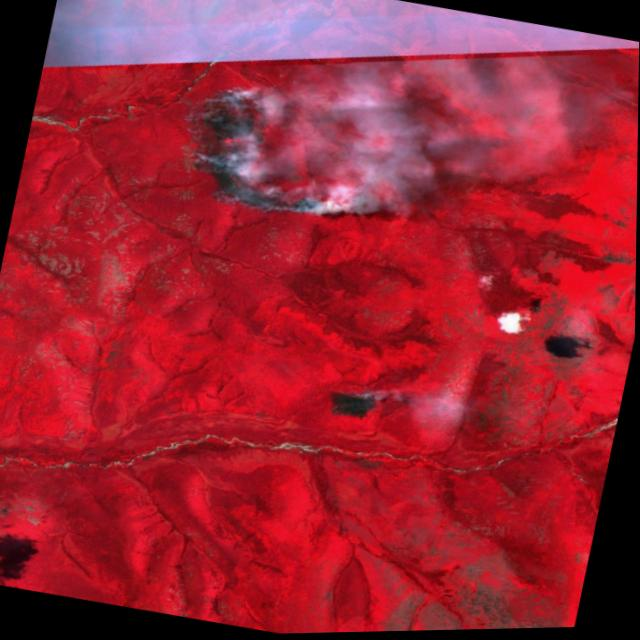fire: (156, 71, 397, 246), (325, 380, 389, 431)
